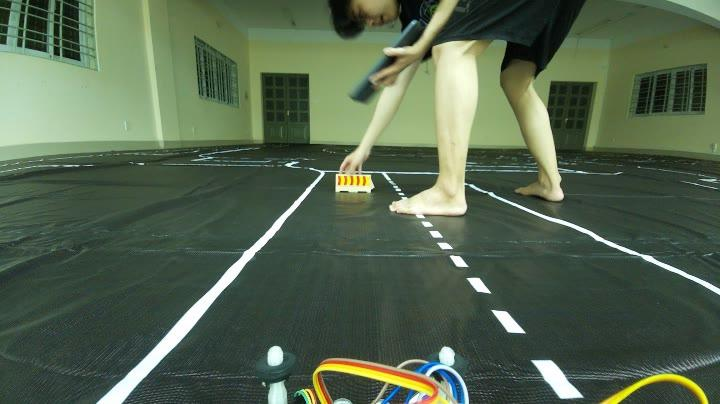roadblock: (330, 167, 384, 215)
